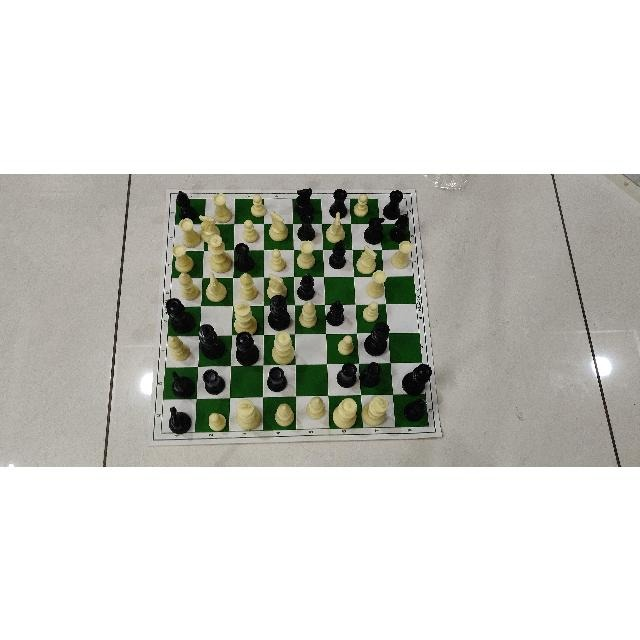black-bishop: (400, 395, 428, 423), (326, 238, 350, 270), (175, 190, 198, 220), (294, 270, 317, 299), (324, 298, 347, 327), (390, 212, 410, 242)
black-king: (198, 320, 226, 362), (363, 322, 391, 356), (266, 294, 292, 330)
black-knight: (168, 370, 196, 398), (292, 185, 317, 216), (167, 404, 193, 433), (361, 214, 385, 243)
black-queen: (396, 361, 434, 397), (165, 296, 195, 332), (235, 330, 263, 368)
black-rook: (200, 366, 227, 395), (380, 188, 405, 218), (231, 242, 256, 272), (333, 360, 359, 388), (360, 358, 385, 387), (327, 186, 349, 218), (295, 213, 319, 241), (265, 365, 289, 391)
white-bishop: (175, 271, 200, 302), (304, 392, 327, 425), (167, 335, 194, 361), (271, 400, 296, 428), (236, 270, 259, 299), (298, 301, 320, 329)
white-king: (231, 299, 260, 337), (360, 394, 391, 428), (233, 397, 262, 431)
white-knight: (354, 243, 378, 274), (323, 212, 346, 244), (198, 212, 222, 242), (205, 271, 228, 302), (269, 209, 289, 241), (266, 272, 287, 300)
white-pawn: (238, 217, 260, 247), (205, 411, 228, 434), (248, 194, 269, 218), (268, 247, 288, 272), (353, 192, 371, 218), (361, 299, 379, 323), (335, 334, 355, 355)
white-queen: (206, 231, 232, 273), (330, 395, 359, 430), (268, 329, 296, 365)
white-rook: (176, 216, 204, 247), (387, 236, 413, 269), (208, 189, 234, 222), (363, 267, 389, 298), (170, 242, 196, 273), (295, 239, 319, 270)
